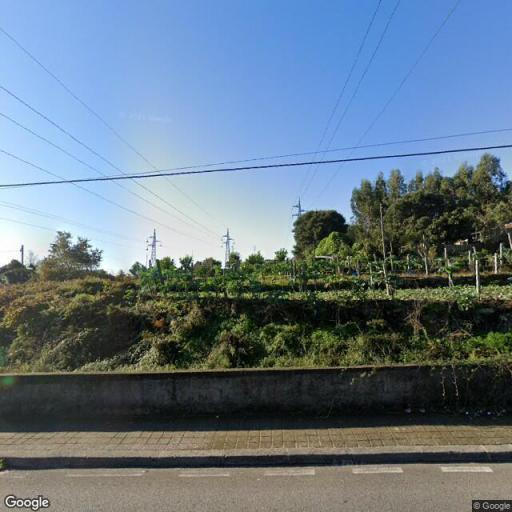ss_4: (146, 225, 163, 263), (290, 195, 310, 224), (220, 225, 234, 263)
